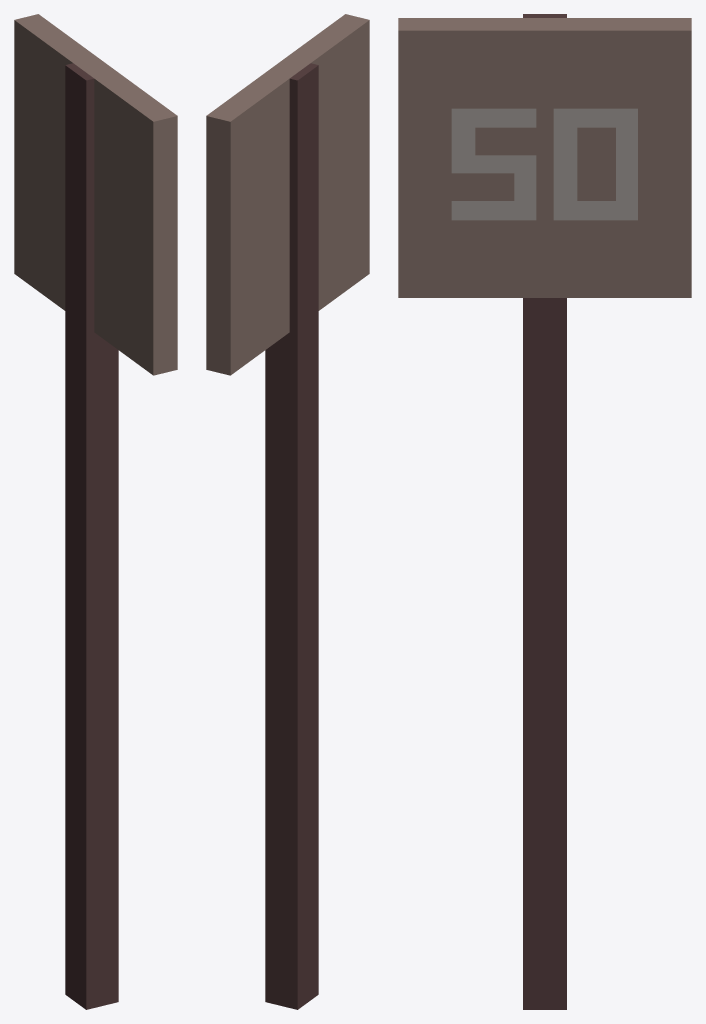
File: RoadSign.fbx
3 views of the same model, side by side, from view 1: azimuth 30°, elevation 25°; view 2: azimuth 150°, elevation 25°; view 3: azimuth 270°, elevation 25° (orthographic). The views are drawn at different scales.
Visible parts, largest first — view 1: RoadSign; view 2: RoadSign; view 3: RoadSign.
Part boxes in pixels (bbox=[...]): RoadSign: bbox=[14, 14, 177, 1009]; RoadSign: bbox=[206, 14, 369, 1009]; RoadSign: bbox=[398, 14, 691, 1009].
Bounding box in the file's own units: 0.1 × 2.75 × 0.7457.
